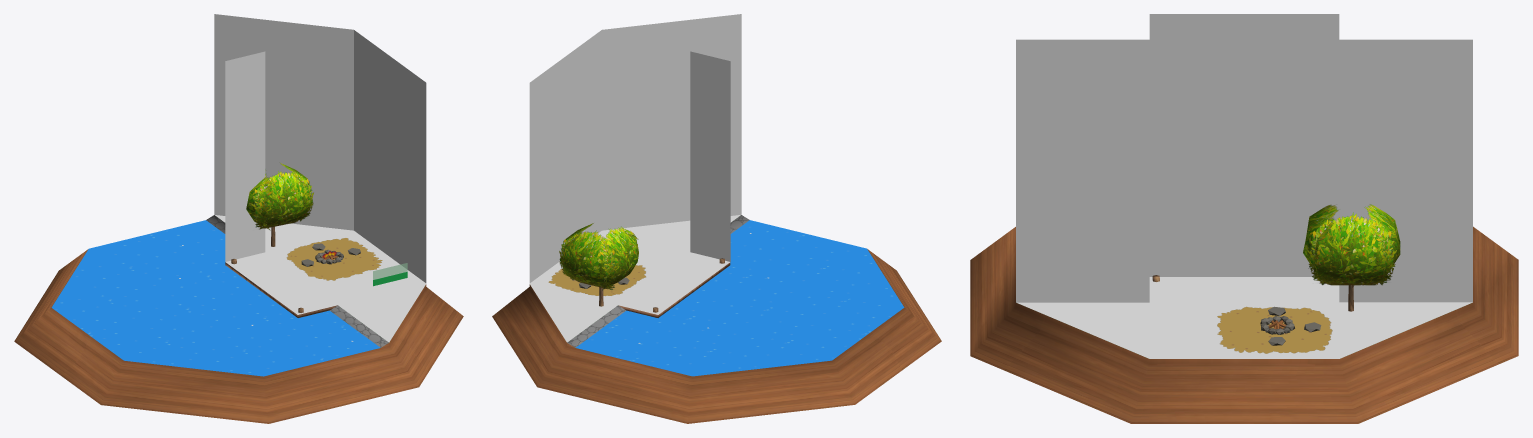
File: fish_spot.glb
3 views of the same model, side by side, from view 1: azimuth 30°, elevation 25°; view 2: azimuth 150°, elevation 25°; view 3: azimuth 270°, elevation 25° (orthographic). The views are drawn at different scales.
Parts seen in each view (by area): view 1: COLL, water, grd, leaf, Plane, shrub.002, campfire; view 2: COLL, water, grd, leaf, Plane; view 3: COLL, grd, leaf, Plane, campfire.
Part boxes in pixels (box(x1,y1,x2,y2)): COLL: box(214, 14, 426, 342); water: box(51, 220, 380, 376); grd: box(14, 215, 463, 423); leaf: box(246, 163, 313, 230); Plane: box(286, 238, 382, 280); shrub.002: box(373, 263, 407, 286); campfire: box(301, 243, 360, 266); COLL: box(529, 14, 741, 342); water: box(576, 220, 904, 376); grd: box(492, 215, 941, 423); leaf: box(559, 223, 638, 290); Plane: box(548, 265, 645, 295); COLL: box(1016, 14, 1472, 358); grd: box(970, 226, 1518, 423); leaf: box(1303, 204, 1400, 285); Plane: box(1217, 306, 1332, 353); campfire: box(1260, 306, 1321, 345).
Size of what is drawn, in the model's own units: 2.37 by 1.47 by 2.37.
Materials: 12 (12 with a texture image).
